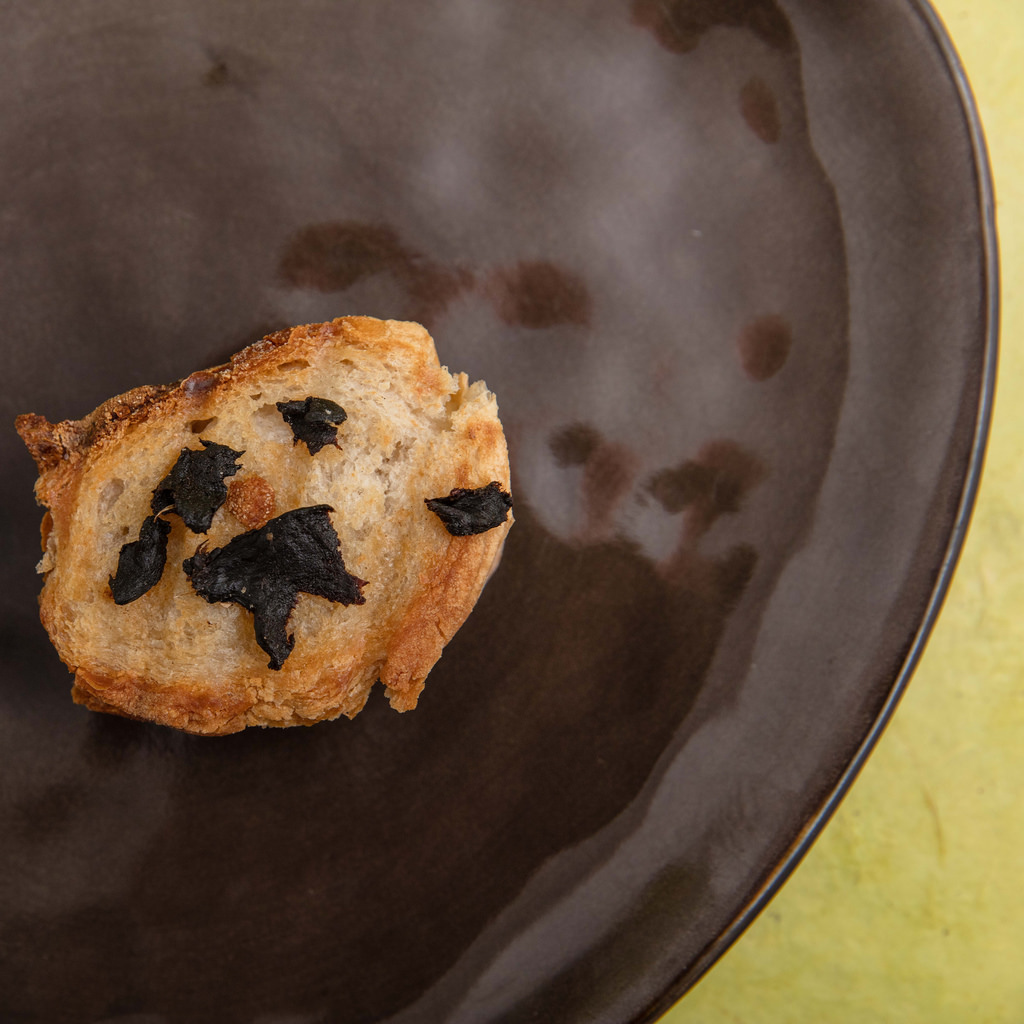slice of bread: (26, 351, 532, 731)
